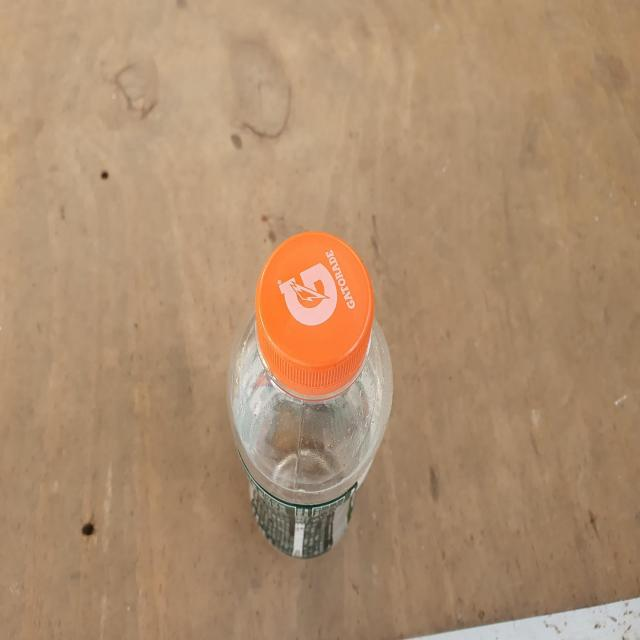plastic: (227, 232, 393, 559)
